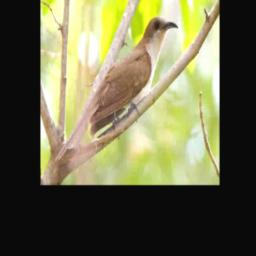Cuckoo: (90, 16, 180, 139)
